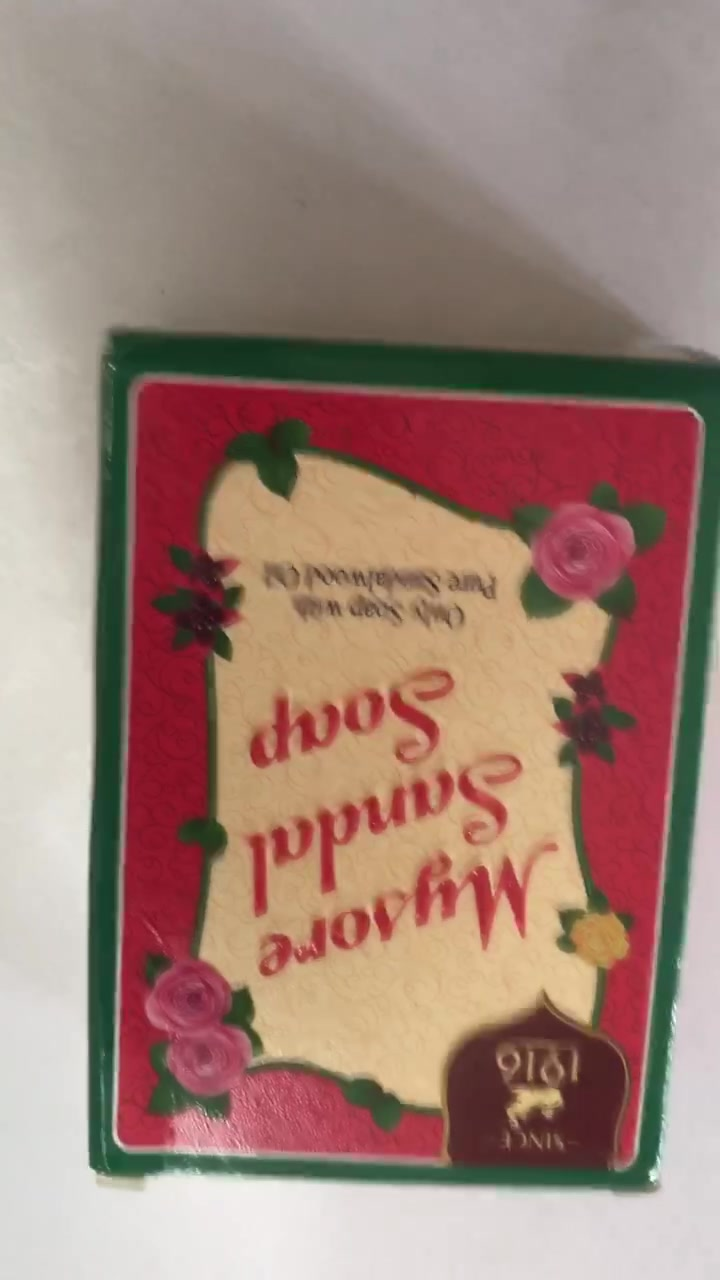mysore sandal soap: (84, 328, 708, 1195)
